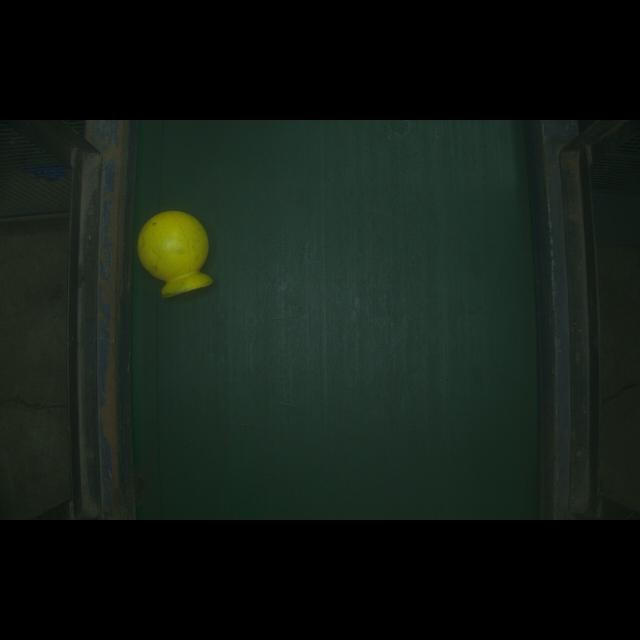mix rigid: (121, 194, 242, 316)
